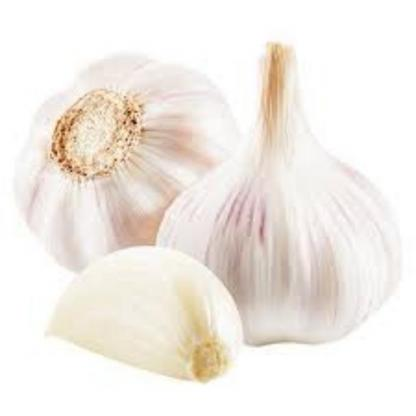garlic: (161, 29, 414, 350), (13, 38, 250, 281), (24, 244, 258, 388)
